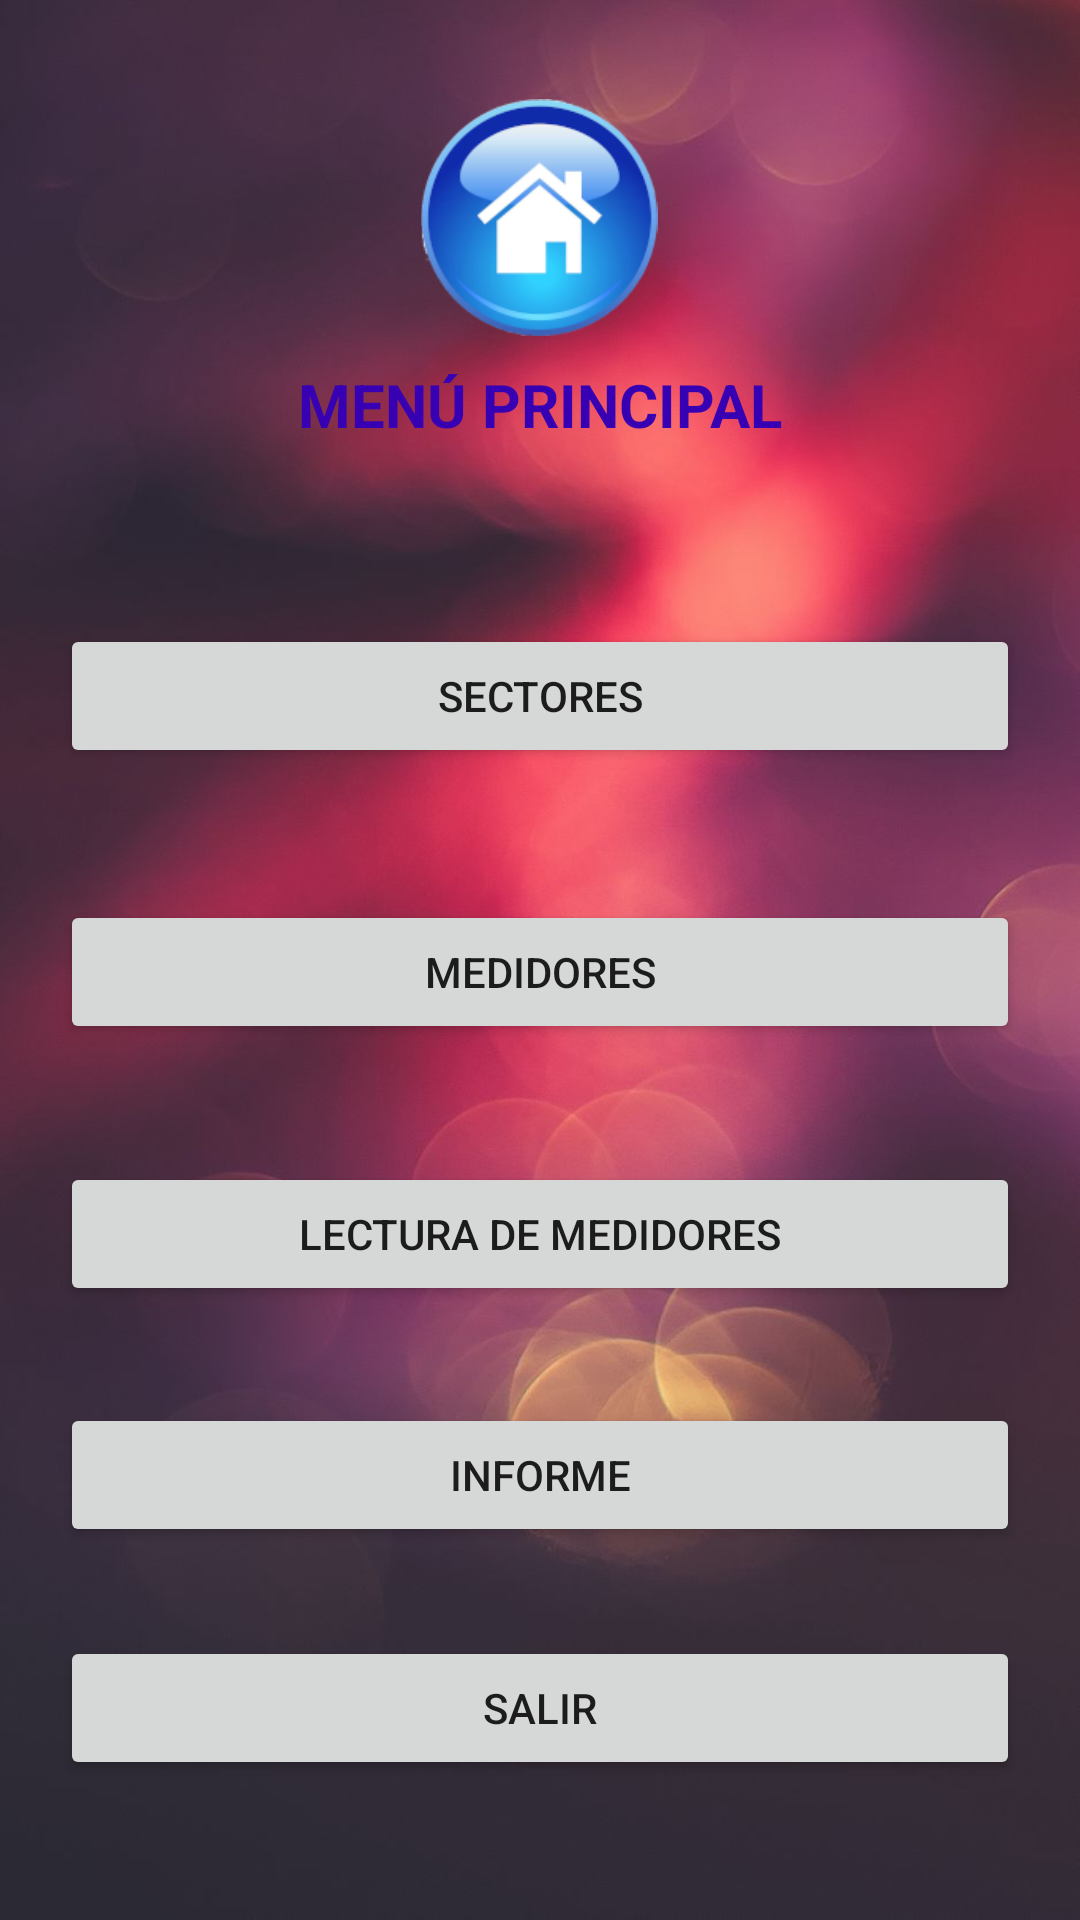

Where to tap for icons on this 1080px x 1920px app screen, as [x,y]:
home: [539,217]
